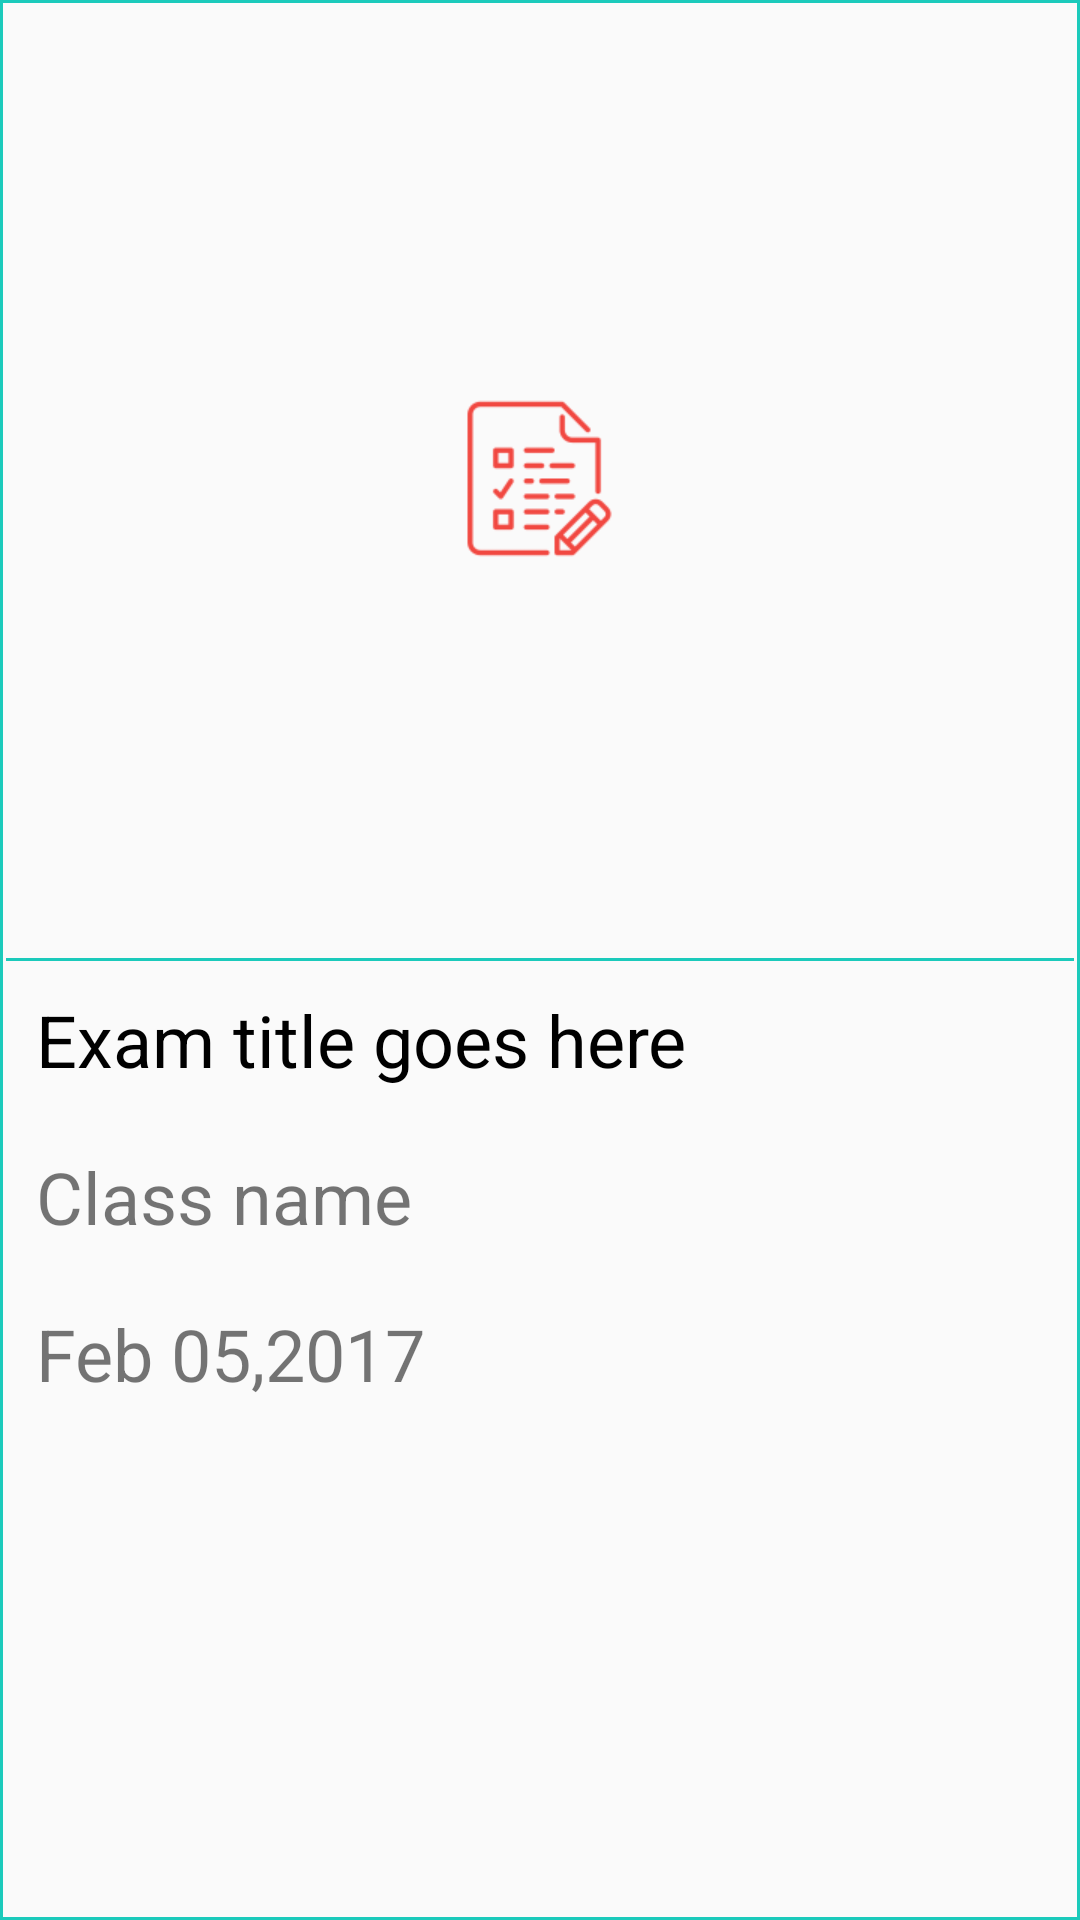

Point at icon controls on the screen. Image size 1080*1920, points as point (x, y).
teacher exam: point (539, 478)
